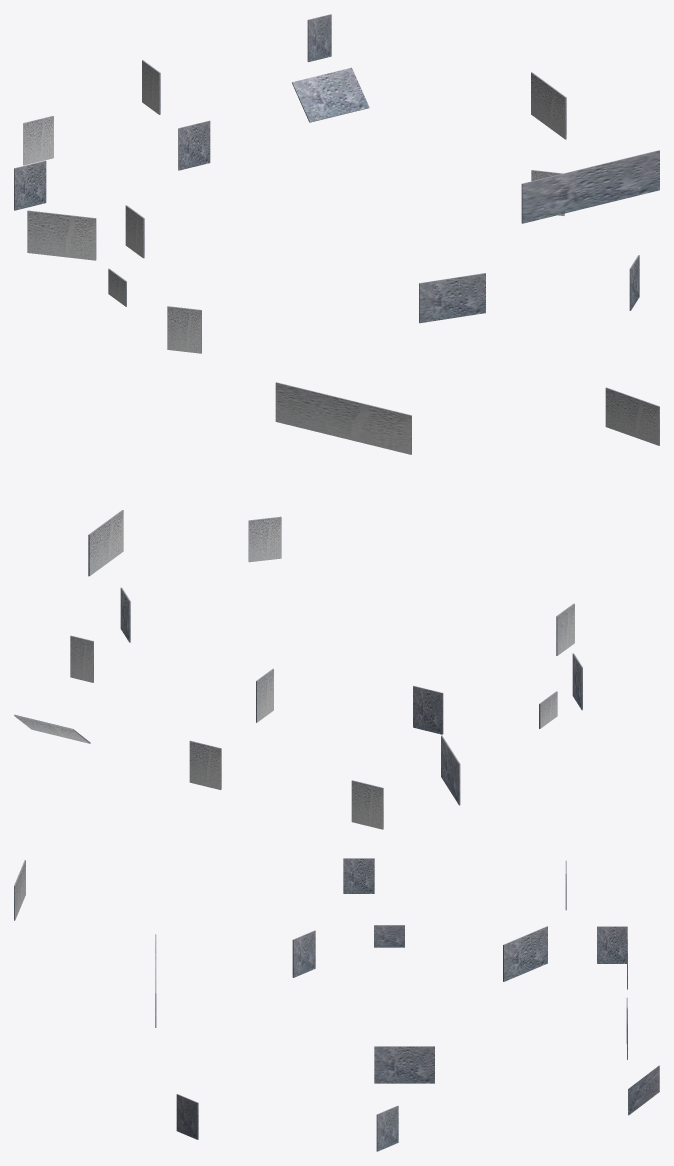
The model's file is Ventanas.obj.
3 renders of one model, top to bottom at view 1: azimuth 30°, elevation 25°; view 2: azimuth 150°, elevation 25°; view 3: azimuth 270°, elevation 25°, orthographic. The views are drawn at different scales.
Parts seen in each view (by area): view 1: polySurface218; view 2: polySurface218; view 3: polySurface218.
Part boxes in pixels (x1,y1,x2,y2): polySurface218: [14, 14, 659, 353]; polySurface218: [14, 382, 659, 829]; polySurface218: [14, 858, 659, 1151].
Size of the model in its own units: 5.62 by 2.05 by 8.12.
1 material, 1 textured.
